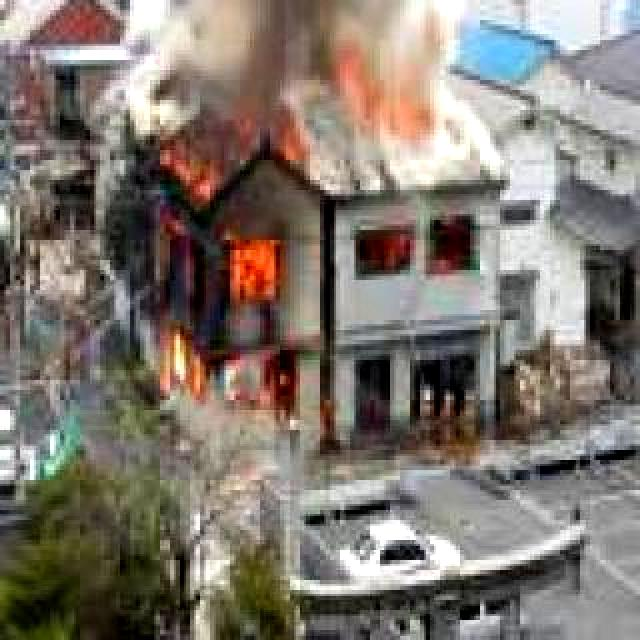fire: (143, 158, 293, 402)
